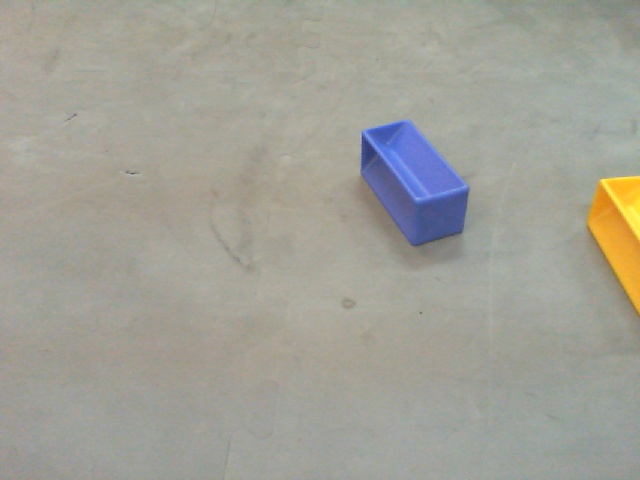BlueSample: (359, 113, 469, 252)
YellowSample: (585, 164, 640, 320)
